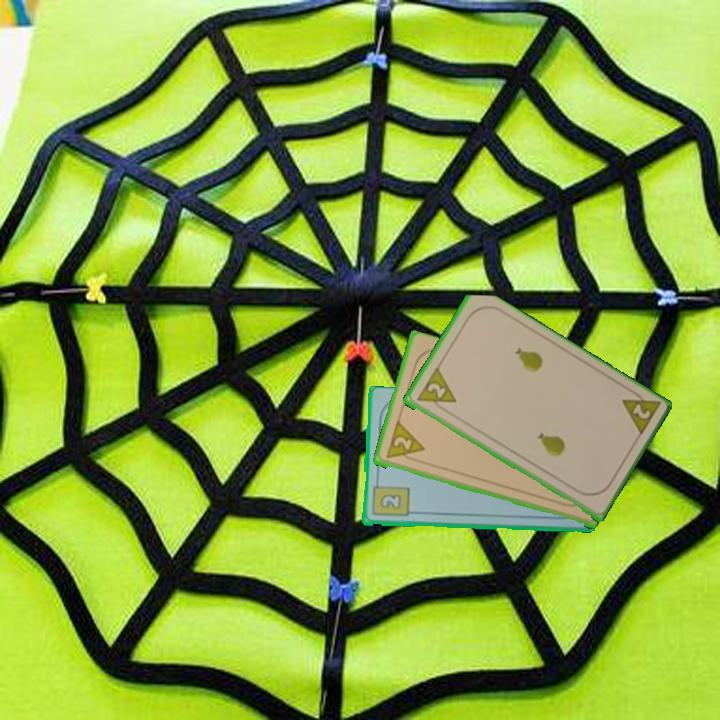2b: (368, 477, 411, 520)
2p: (618, 385, 663, 440), (382, 419, 427, 464), (423, 379, 448, 401)
